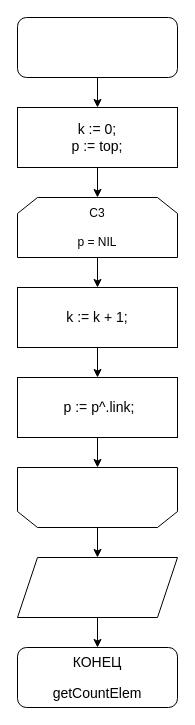
Some shapes in this 195 by 725 pixel diagram are drawn without their labels. Each missing label, with the centre of its shape:
"C3" belongs at point 97,497.
"getCountElem НАЧАЛО" belongs at point 97,47.
"Вернуть k" belongs at point 97,587.
